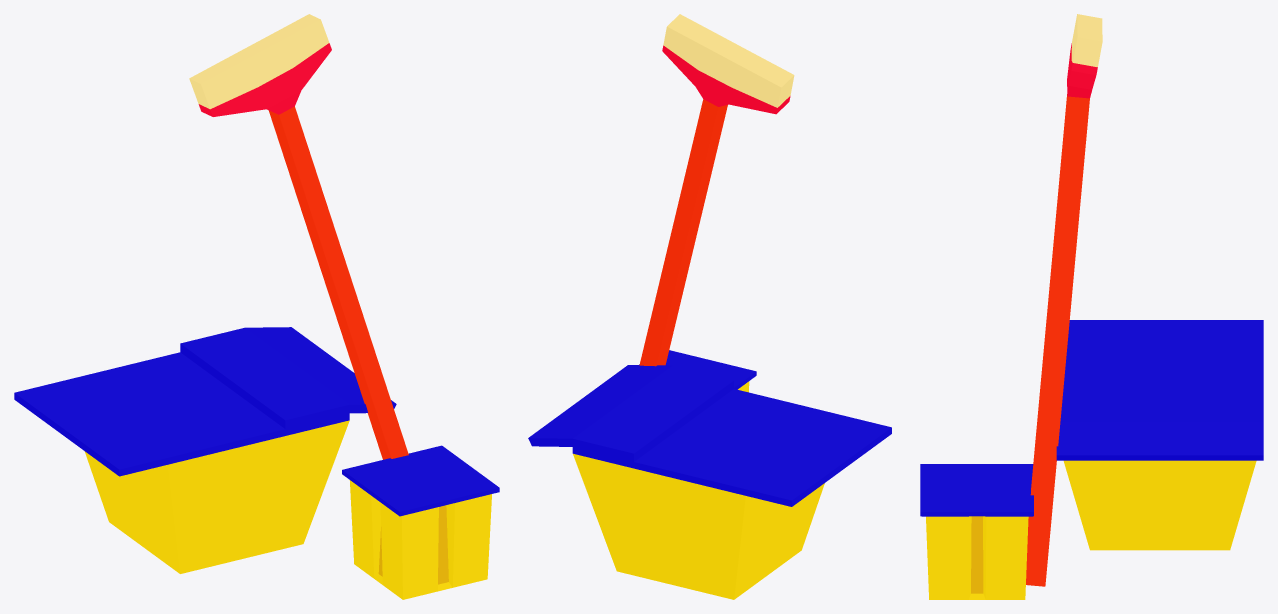
Rendered from SetLimpieza.glb.
The picture shows the model from 3 angles, left to right: view 1: azimuth 30°, elevation 25°; view 2: azimuth 150°, elevation 25°; view 3: azimuth 270°, elevation 25°; orthographic projection. The views are drawn at different scales.
Parts seen in each view (by area): view 1: SetLimpieza; view 2: SetLimpieza; view 3: SetLimpieza.
Boxes of the visible parts, <box> form: SetLimpieza: <box>14,14,499,599</box>; SetLimpieza: <box>528,14,891,599</box>; SetLimpieza: <box>920,14,1263,599</box>.
Size of the model in its own units: 5.05 by 8.17 by 4.89.
